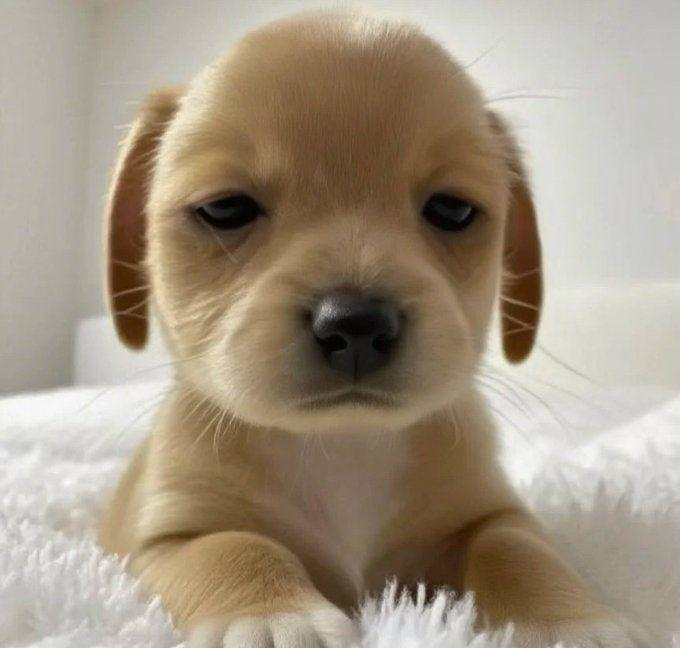puppy-dog: (90, 10, 621, 645)
